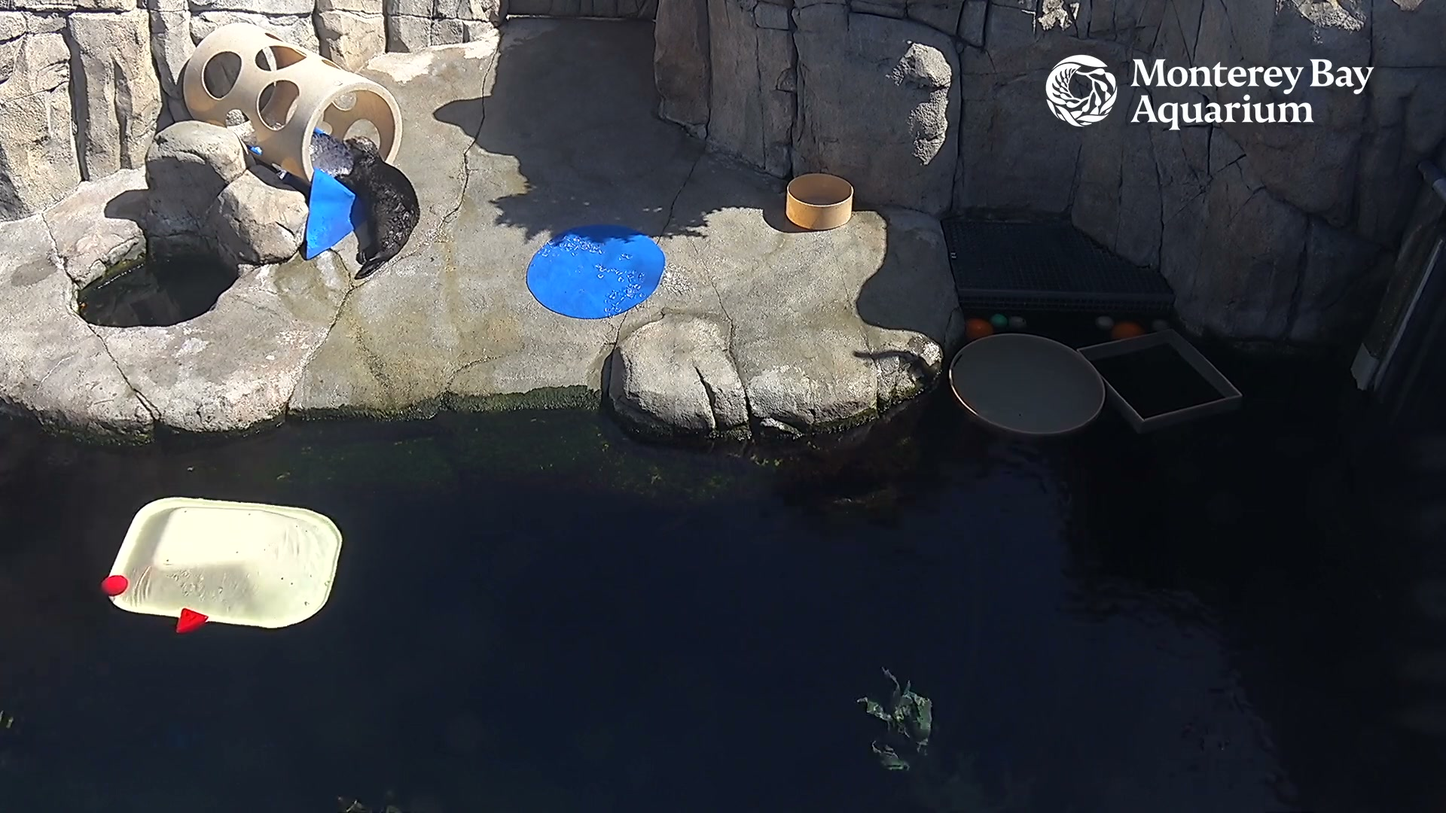Southern Sea Otter: (327, 118, 426, 295)
